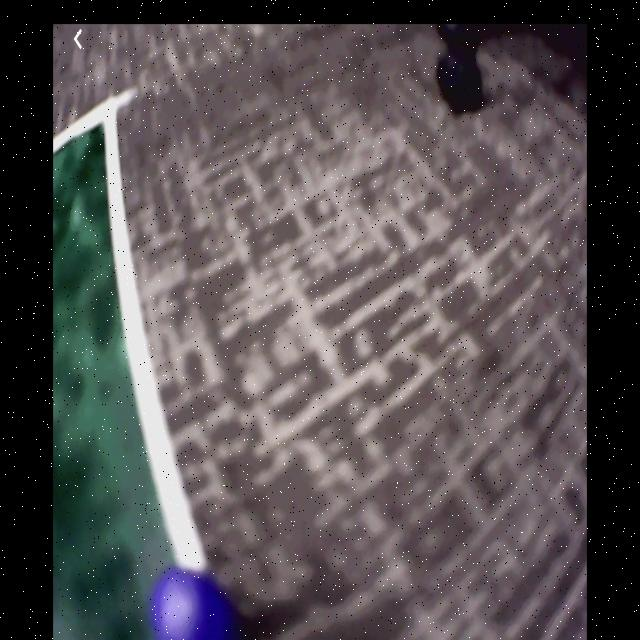ball: (149, 571, 234, 640)
